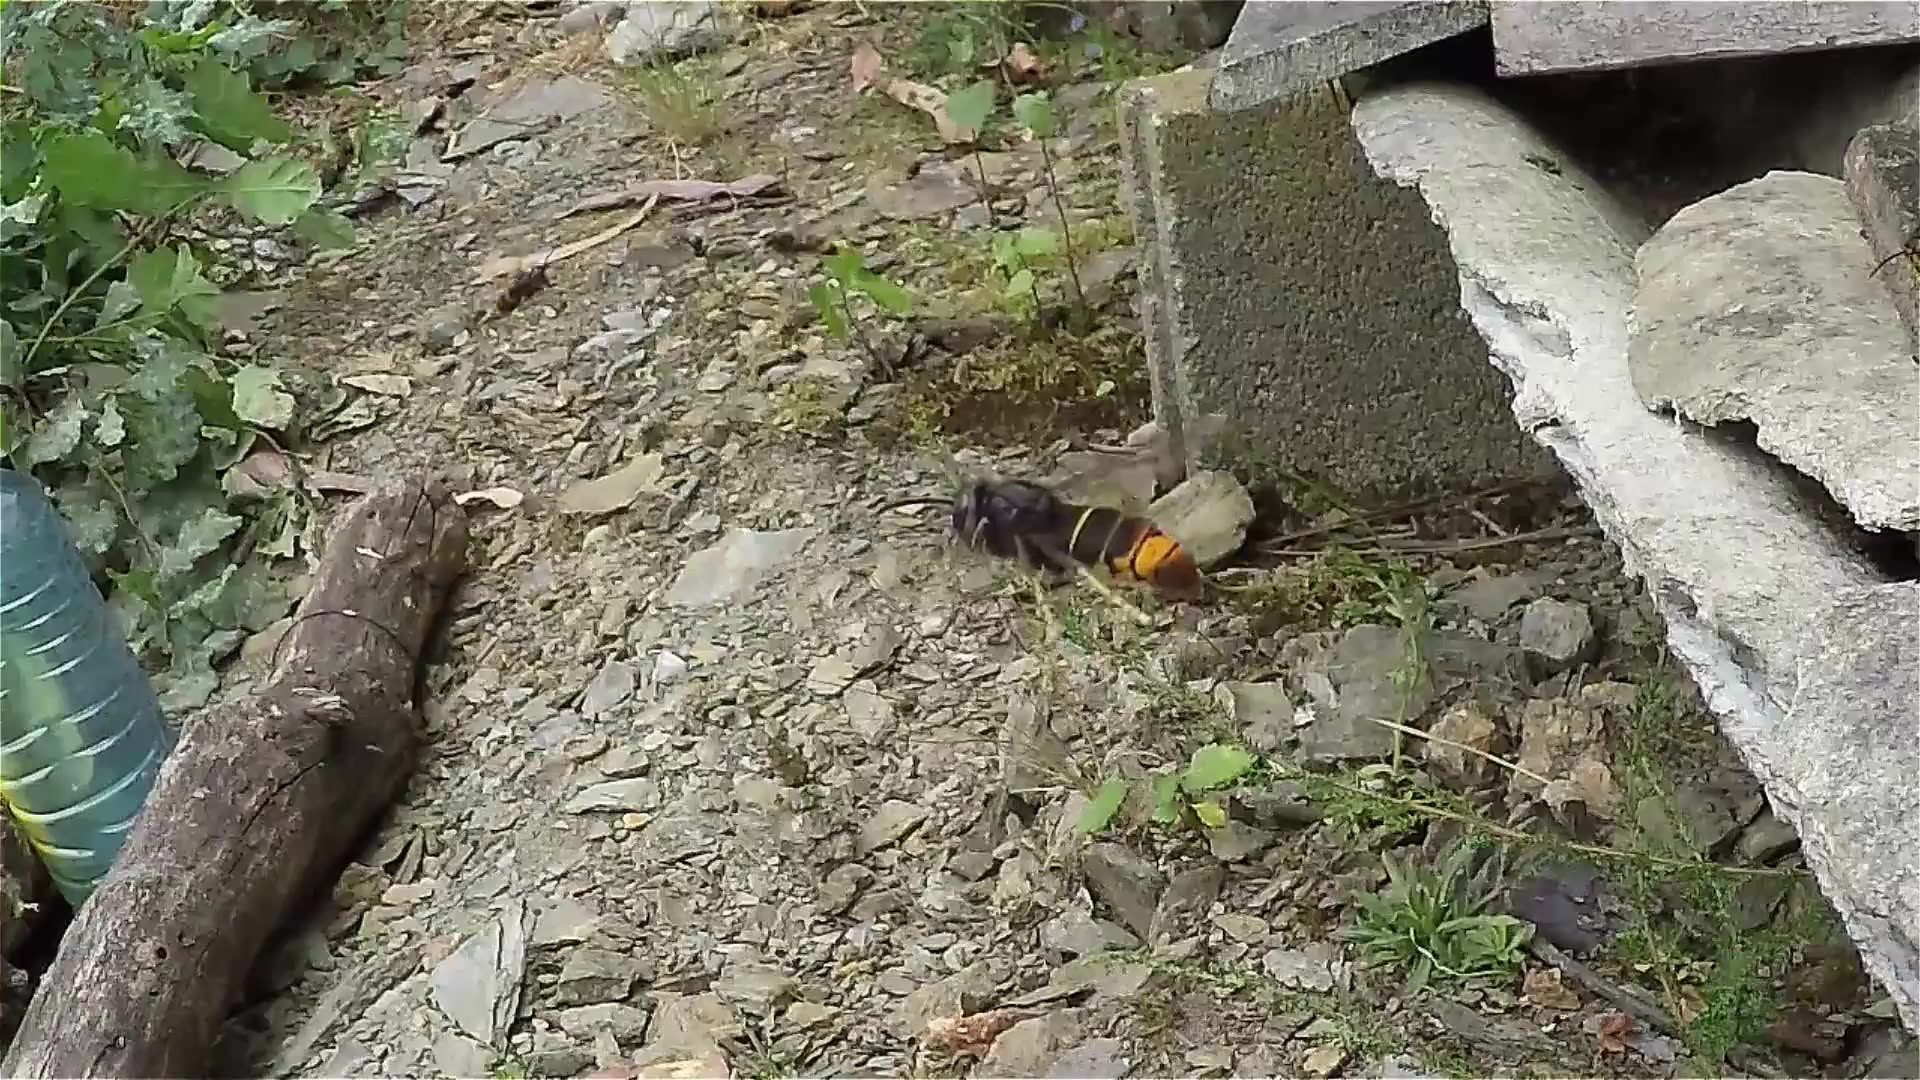hornet: (953, 455, 1204, 613), (488, 255, 562, 322)
